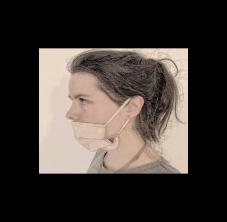mask_weared_incorrect: (63, 87, 116, 154)
